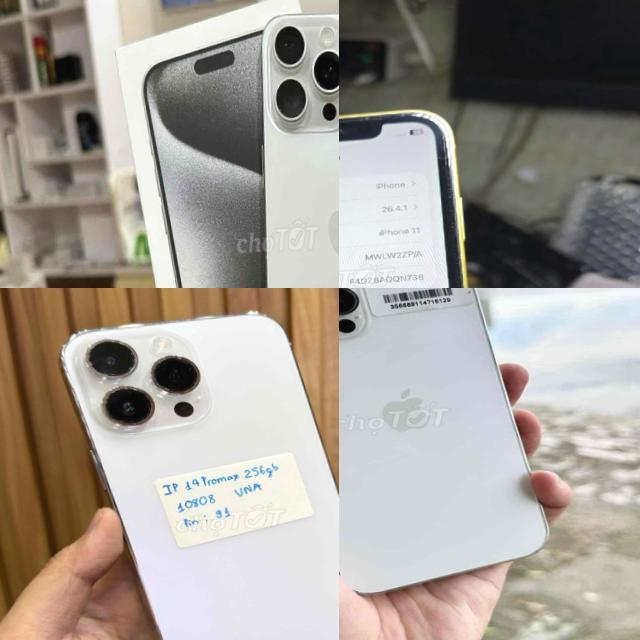gen_11: (339, 99, 503, 288)
gen_12_13: (339, 288, 555, 606), (245, 4, 339, 288)
gen_14: (54, 297, 339, 640)
scratch: (339, 105, 453, 136), (444, 170, 462, 244), (433, 130, 458, 170), (450, 256, 475, 288)
